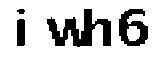6: (118, 4, 152, 52)
h: (84, 5, 114, 48)
i: (12, 5, 39, 55)
w: (43, 17, 84, 50)
